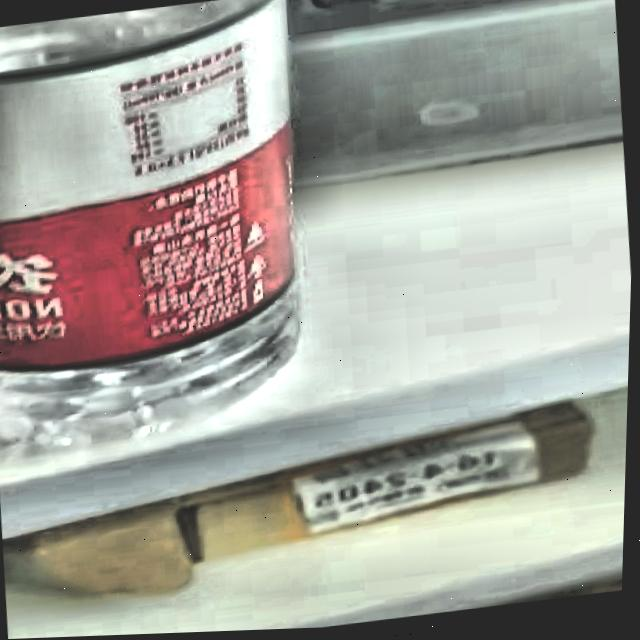plastic: (0, 0, 347, 463)
